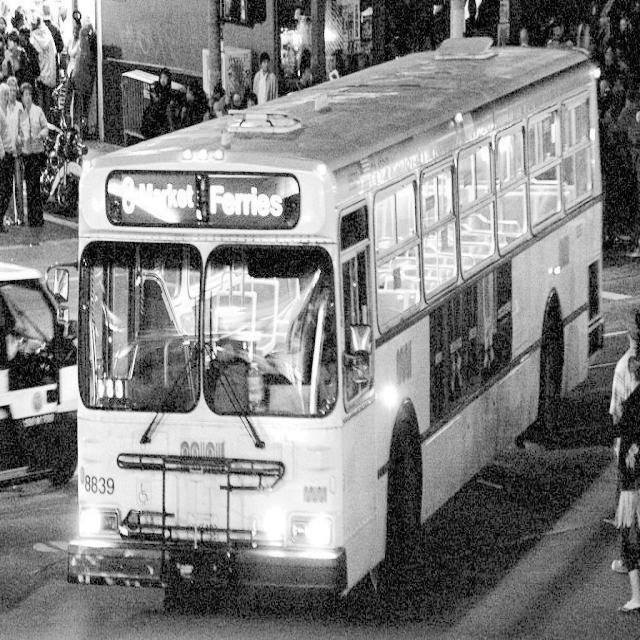Bus: (45, 37, 627, 633)
Car: (0, 242, 72, 480)
